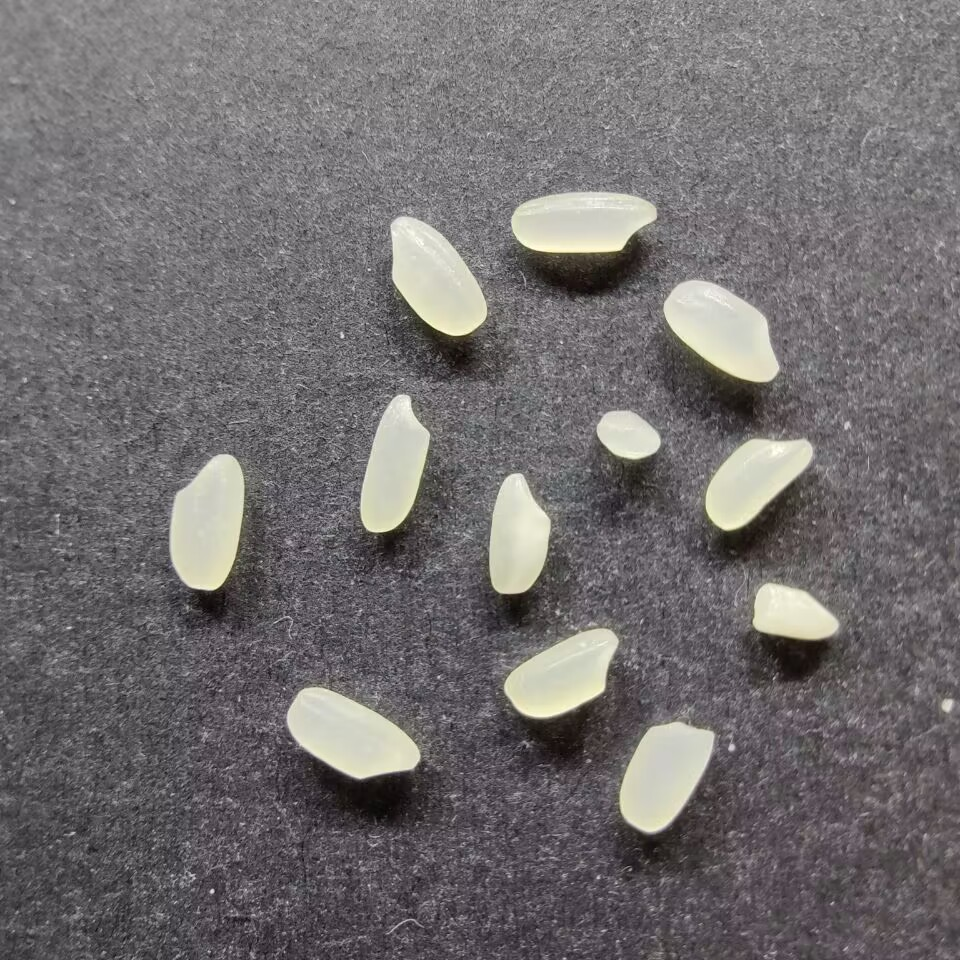broken: (751, 582, 840, 641), (595, 409, 661, 459)
rice: (285, 686, 421, 780), (662, 279, 781, 383), (388, 214, 488, 337), (618, 720, 715, 835), (168, 452, 245, 591), (503, 626, 618, 719), (702, 437, 813, 531), (358, 393, 430, 533), (510, 191, 656, 254), (487, 472, 550, 594)
